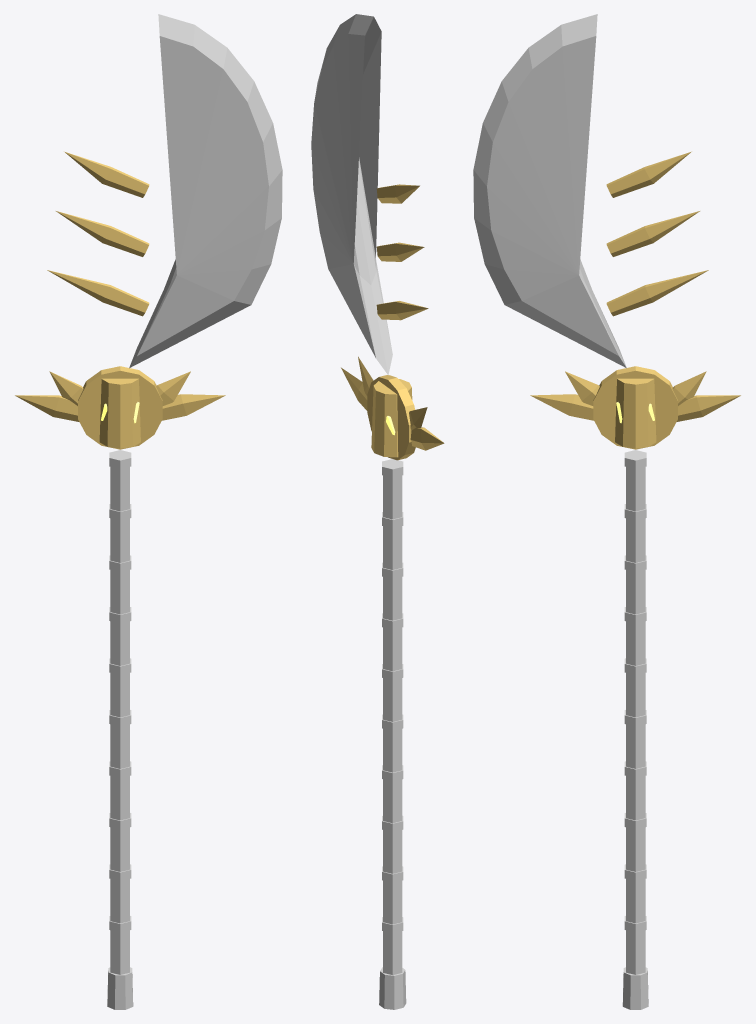
The model's file is polearm_legendary.glb.
3 renders of one model, left to right at view 1: azimuth 90°, elevation 25°; view 2: azimuth 210°, elevation 25°; view 3: azimuth 270°, elevation 25°, orthographic.
Visible parts, largest first — view 1: polearm_legendary_export; view 2: polearm_legendary_export; view 3: polearm_legendary_export.
Boxes of the visible parts, <box> form: polearm_legendary_export: <box>15,14,282,1009</box>; polearm_legendary_export: <box>311,14,444,1009</box>; polearm_legendary_export: <box>473,14,740,1009</box>.
Size of the model in its own units: 10 by 251 by 61.59.
